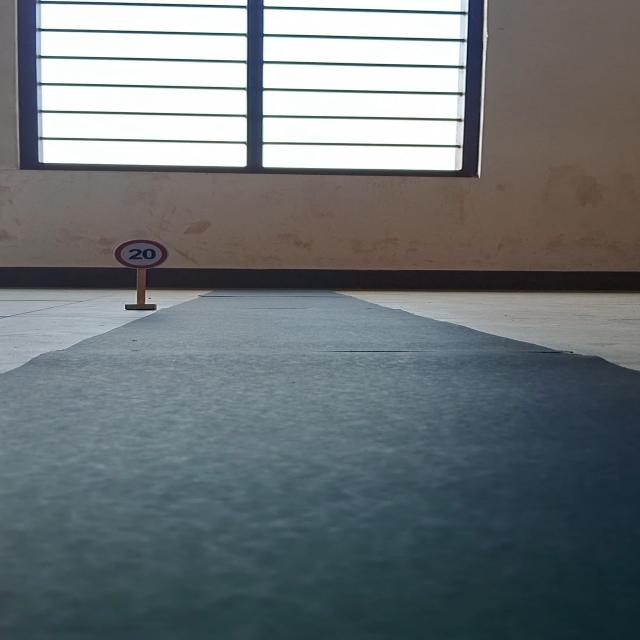Speed20: (110, 236, 172, 271)
